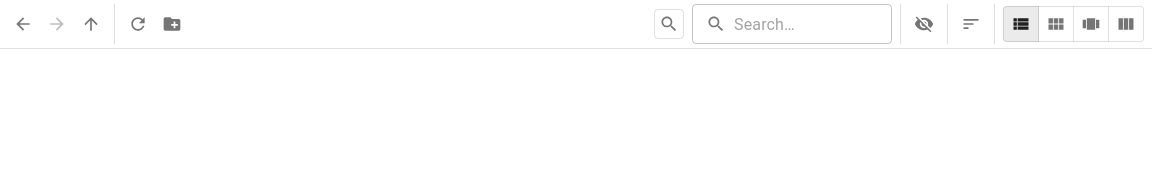
it: Toolbar search › right-click on Back opens a history dropdown when entries exist
Step 1. Right-click the button named "Back" → (23, 24), box x1=8 y1=9 x2=38 y2=39
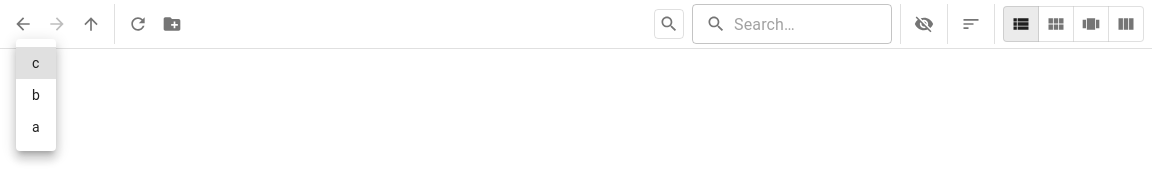
Check: the number of menu items is 3, box x1=16 y1=47 x2=56 y2=79; x1=32 y1=87 x2=40 y2=103; x1=32 y1=119 x2=40 y2=135
Check: the menu item "c" is shown, box x1=16 y1=47 x2=56 y2=79
